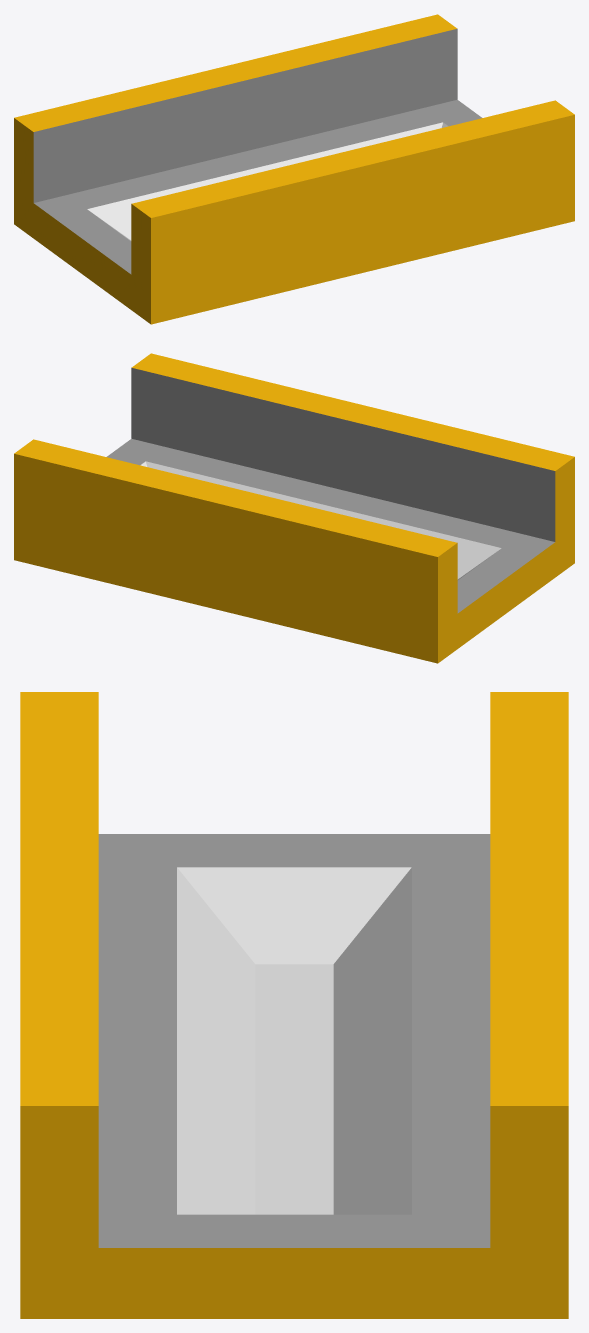
File: bar_light_small.dae
The picture shows the model from 3 angles, top to bottom: view 1: azimuth 30°, elevation 25°; view 2: azimuth 150°, elevation 25°; view 3: azimuth 270°, elevation 25°; orthographic projection. The views are drawn at different scales.
Visible parts, largest first — view 1: Cube; view 2: Cube; view 3: Cube.
Boxes of the visible parts, bbox=[...] form: Cube: bbox=[14, 14, 574, 324]; Cube: bbox=[14, 353, 574, 663]; Cube: bbox=[20, 692, 568, 1318].
Bounding box in the file's own units: 0.125 × 0.07 × 0.03.
